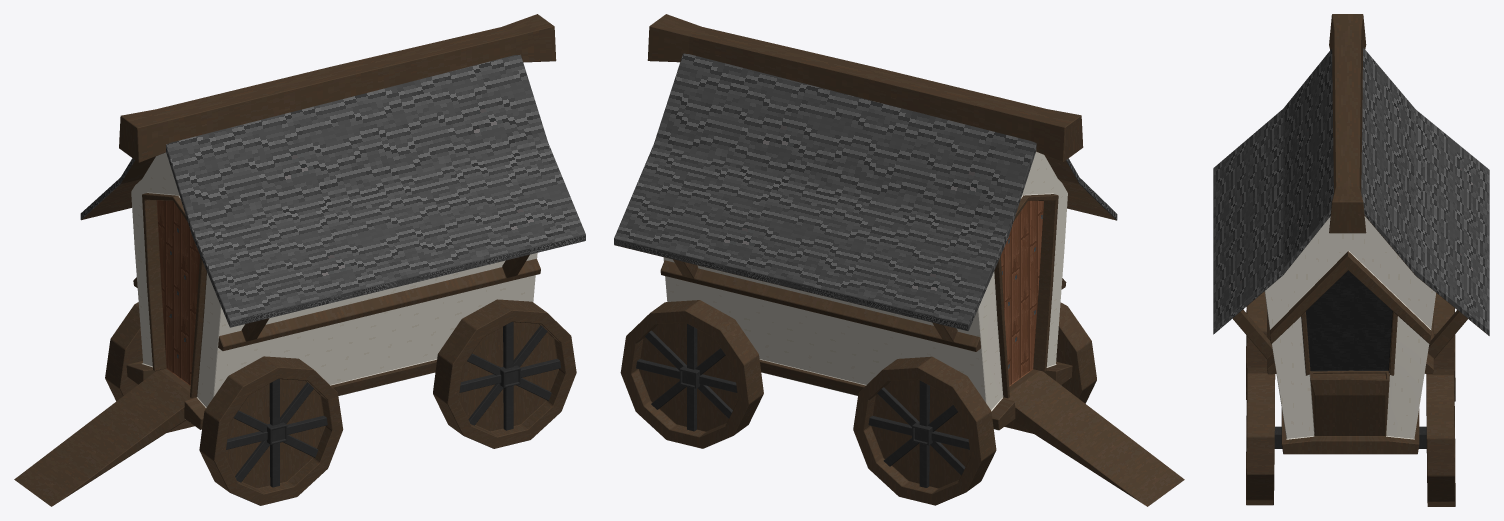
File: TradeShop.fbx
The picture shows the model from 3 angles, left to right: view 1: azimuth 30°, elevation 25°; view 2: azimuth 150°, elevation 25°; view 3: azimuth 270°, elevation 25°; orthographic projection. The views are drawn at different scales.
Visible parts, largest first — view 1: Cube; view 2: Cube; view 3: Cube.
Part boxes in pixels (x1,y1,x2,y2): Cube: (14, 14, 585, 506); Cube: (614, 14, 1184, 506); Cube: (1213, 14, 1489, 506).
Size of the model in its own units: 675 by 457 by 341.
